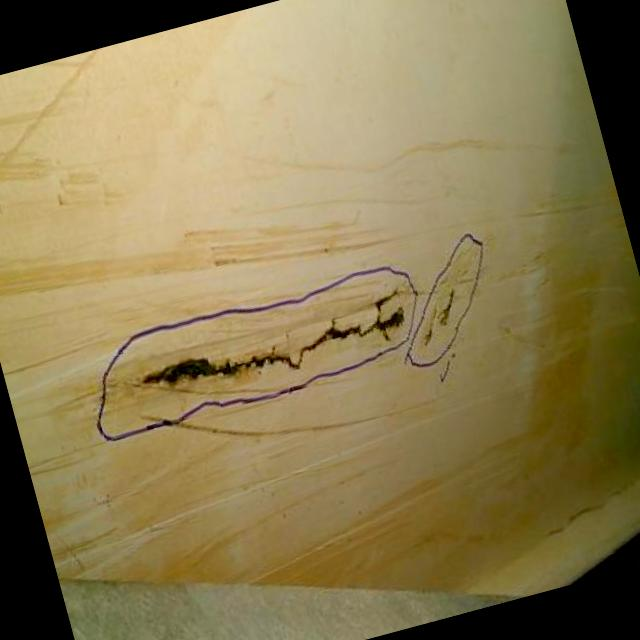crack: (139, 290, 403, 391), (419, 285, 457, 350)
